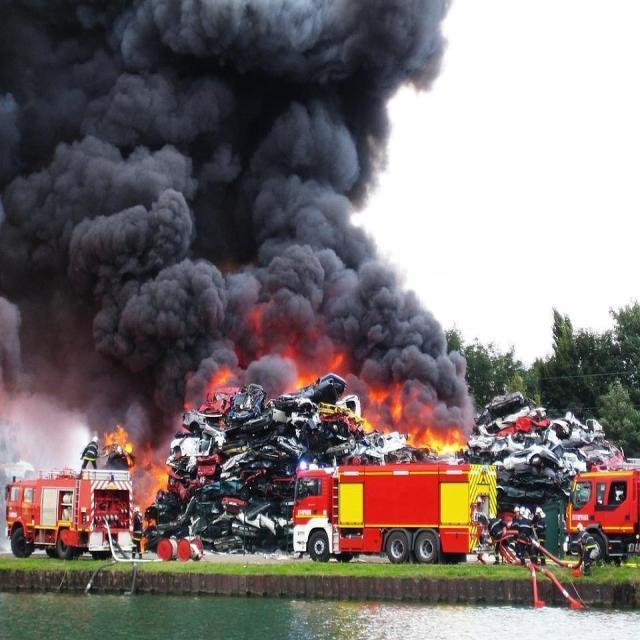Fire: (354, 378, 476, 459), (103, 418, 170, 526), (278, 338, 346, 403), (177, 364, 240, 422)
Smoke: (0, 3, 465, 392)
